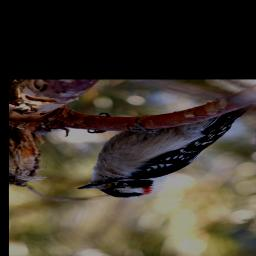Woodpecker: (77, 104, 249, 197)
